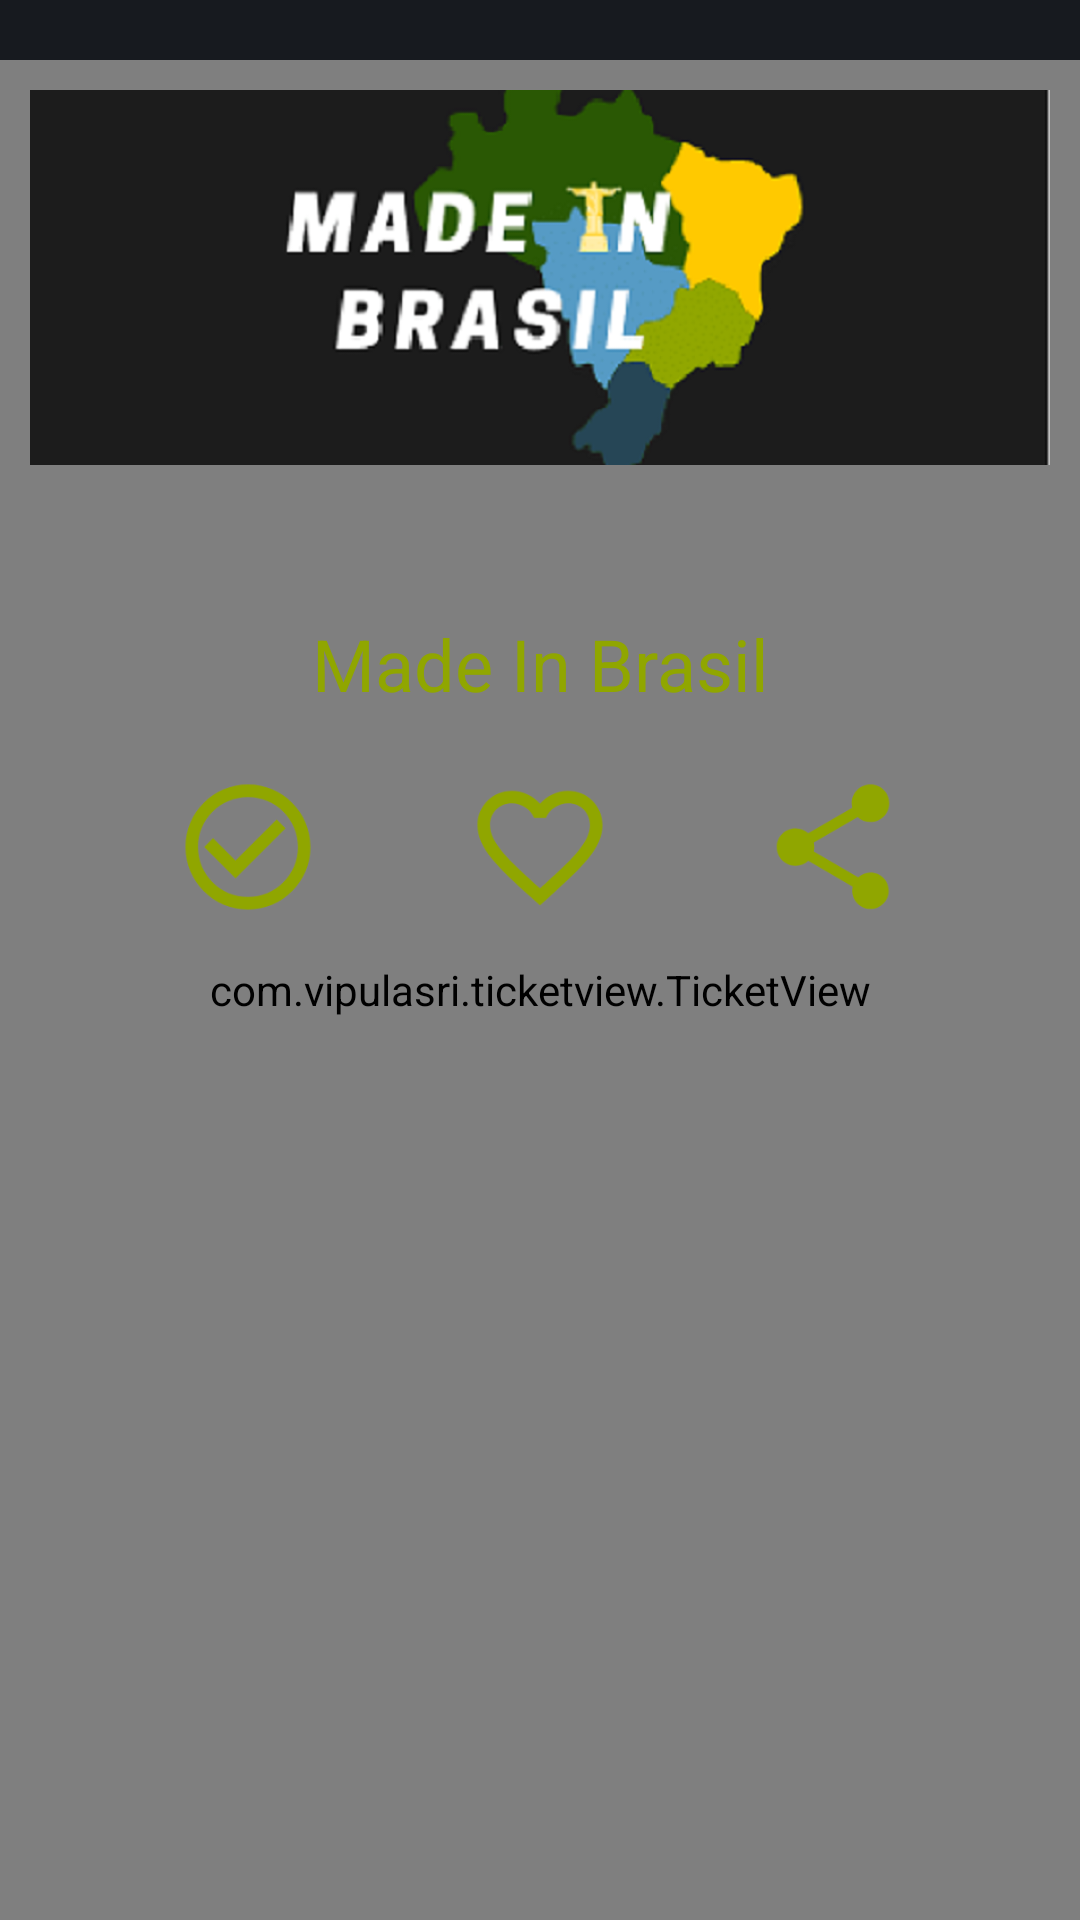

Named icons in this screenshot (1080 x 1920) and their centers, point (x, y):
popup favorite: point (540, 847)
popup watched: point (248, 847)
share: point (833, 846)
